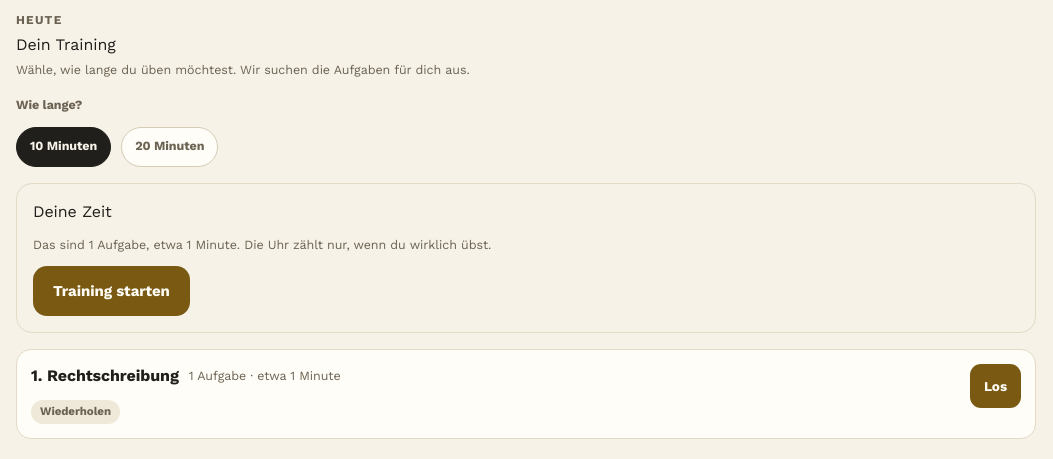
it: Tagestraining: Container › misst aktive Zeit, pausiert ohne Eingabe und schließt nach Ablauf ab
Later steps or results of the test are not shown.
Step 1. Click the button "Training starten" → (111, 291), box [33,266,190,316]
Wait 900000 ms
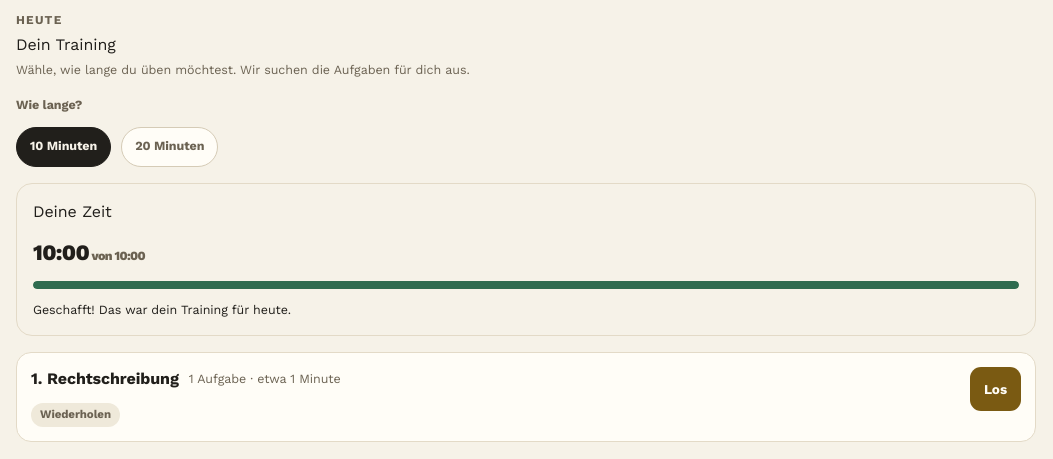
expect the text "0:30" is shown: met, box [33,240,151,264]
expect the message shows "Geschafft!": met, box [33,302,291,316]
expect the text "10:00" is shown: met, box [33,240,89,264]
